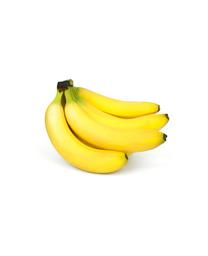banana: (44, 79, 168, 174)
